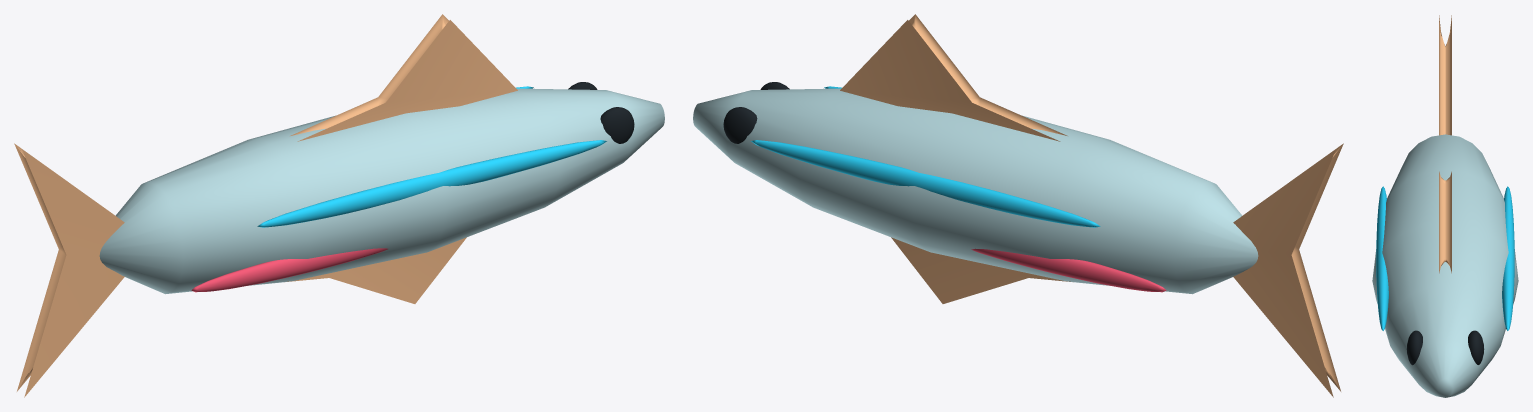
File: NeonTetra.fbx
3 renders of one model, left to right at view 1: azimuth 30°, elevation 25°; view 2: azimuth 150°, elevation 25°; view 3: azimuth 270°, elevation 25°, orthographic. The views are drawn at different scales.
Visible parts, largest first — view 1: Neon tetra hydrodynamic body, Neon tetra caudal fin, Neon tetra dorsal fin, Neon electric blue lateral stripe, Neon tetra anal fin, Neon red lower stripe, Neon tetra eye; view 2: Neon tetra hydrodynamic body, Neon tetra caudal fin, Neon tetra dorsal fin, Neon electric blue lateral stripe.001, Neon tetra anal fin, Neon red lower stripe.001, Neon tetra eye.001; view 3: Neon tetra hydrodynamic body, Neon tetra caudal fin, Neon electric blue lateral stripe.001, Neon electric blue lateral stripe, Neon tetra dorsal fin, Neon tetra eye, Neon tetra eye.001.
Part boxes in pixels (x1=…): Neon tetra hydrodynamic body: x1=99, y1=88, x2=664, y2=294; Neon tetra caudal fin: x1=14, y1=143, x2=124, y2=397; Neon tetra dorsal fin: x1=290, y1=14, x2=517, y2=141; Neon electric blue lateral stripe: x1=257, y1=140, x2=606, y2=227; Neon tetra anal fin: x1=287, y1=237, x2=466, y2=303; Neon red lower stripe: x1=191, y1=248, x2=387, y2=292; Neon tetra eye: x1=600, y1=107, x2=634, y2=143; Neon tetra hydrodynamic body: x1=693, y1=88, x2=1258, y2=294; Neon tetra caudal fin: x1=1233, y1=143, x2=1343, y2=397; Neon tetra dorsal fin: x1=840, y1=14, x2=1067, y2=141; Neon electric blue lateral stripe.001: x1=751, y1=140, x2=1100, y2=227; Neon tetra anal fin: x1=891, y1=237, x2=1070, y2=303; Neon red lower stripe.001: x1=971, y1=248, x2=1166, y2=292; Neon tetra eye.001: x1=723, y1=107, x2=757, y2=143; Neon tetra hydrodynamic body: x1=1372, y1=134, x2=1518, y2=397; Neon tetra caudal fin: x1=1439, y1=15, x2=1451, y2=135; Neon electric blue lateral stripe.001: x1=1502, y1=186, x2=1514, y2=330; Neon electric blue lateral stripe: x1=1376, y1=186, x2=1388, y2=330; Neon tetra dorsal fin: x1=1439, y1=171, x2=1451, y2=273; Neon tetra eye: x1=1406, y1=330, x2=1422, y2=365; Neon tetra eye.001: x1=1468, y1=330, x2=1484, y2=364.
Bounding box in the file's own units: 1.47 × 0.6046 × 0.34.
